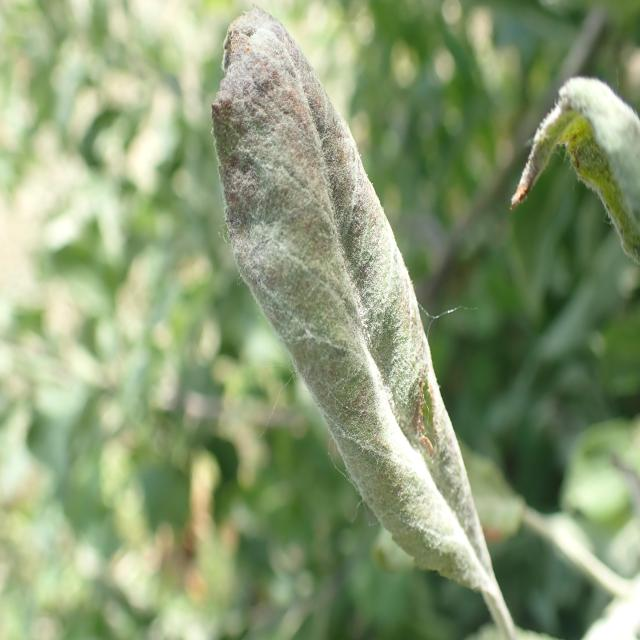Powdery_mildew: (208, 0, 555, 640), (499, 63, 640, 316)
